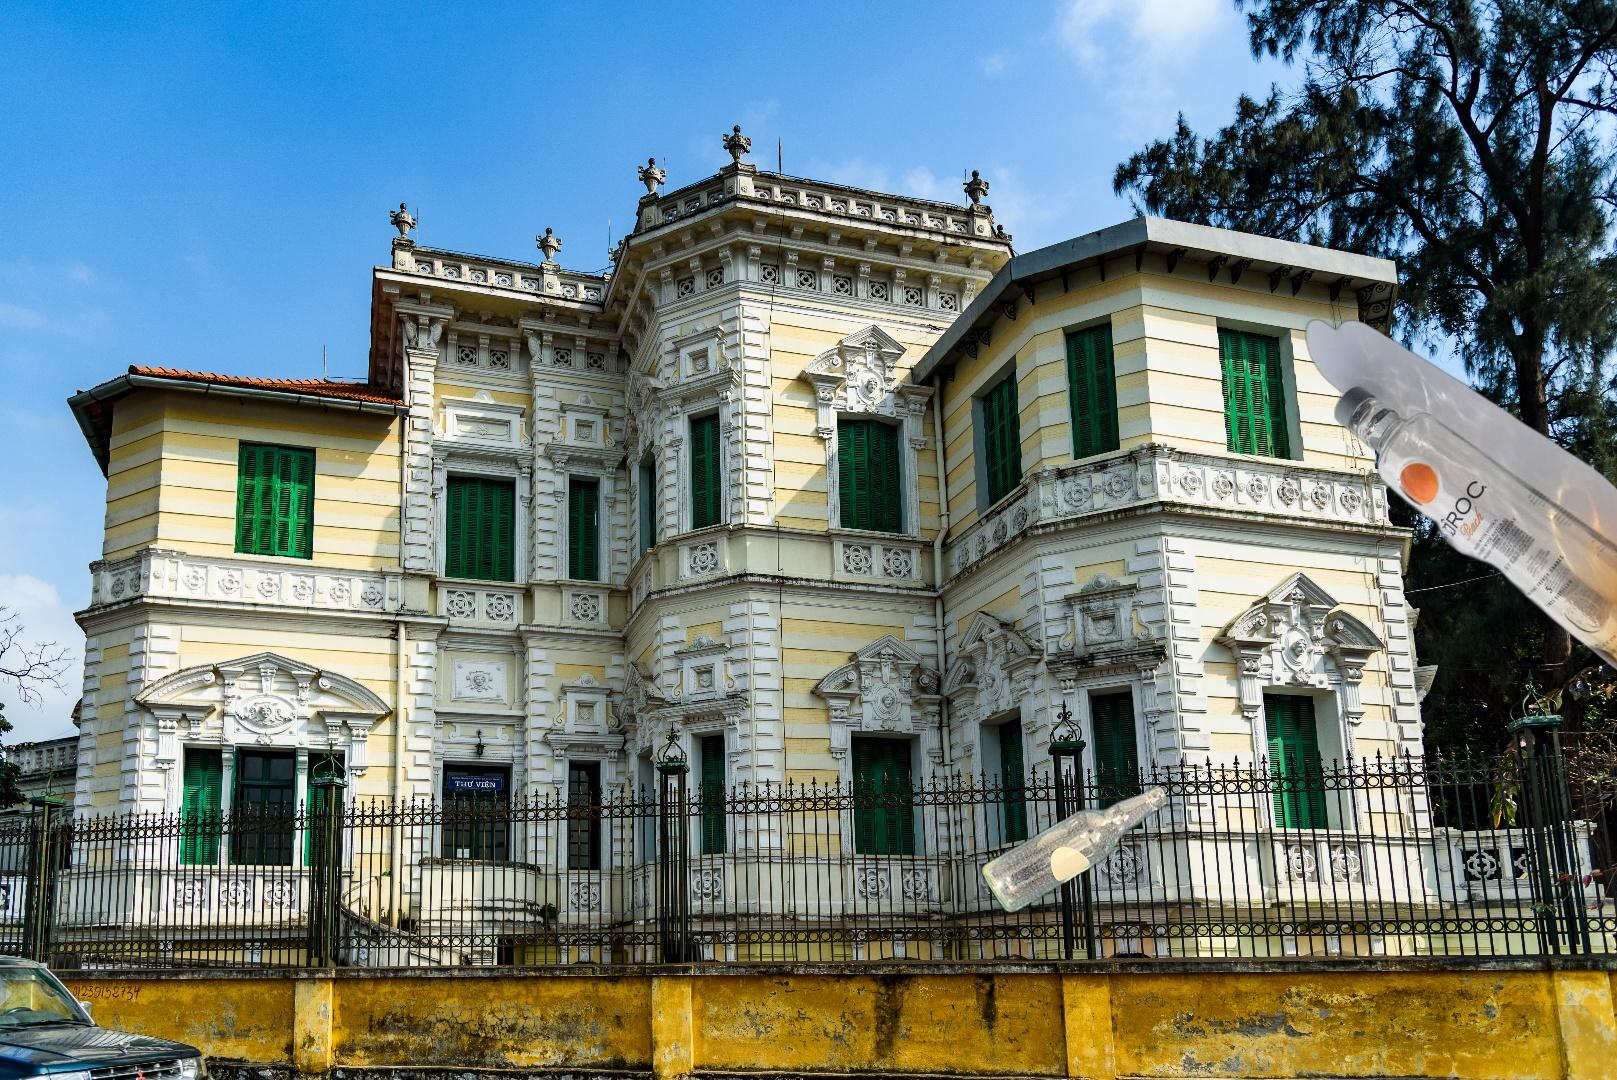biological: (1593, 192, 1617, 417)
glass: (1301, 317, 1617, 695), (977, 779, 1172, 920)
trashbox-cardboard: (1296, 1005, 1617, 1080)
